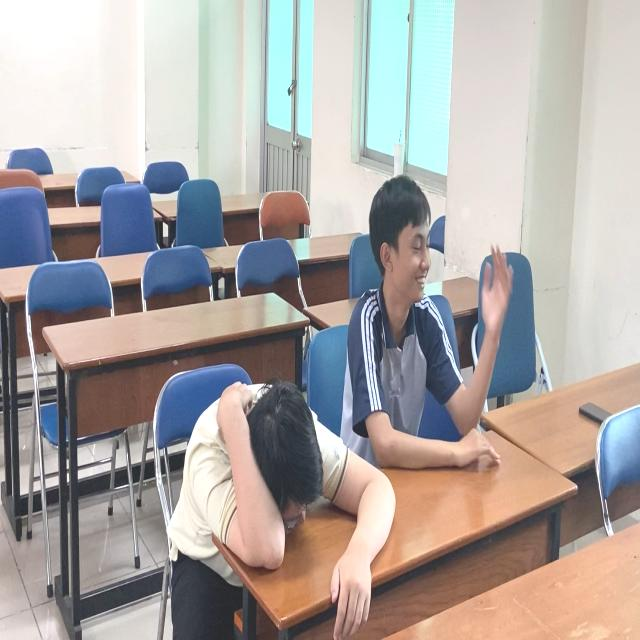raise_hand: (334, 166, 518, 489)
sleep: (164, 375, 409, 632)
